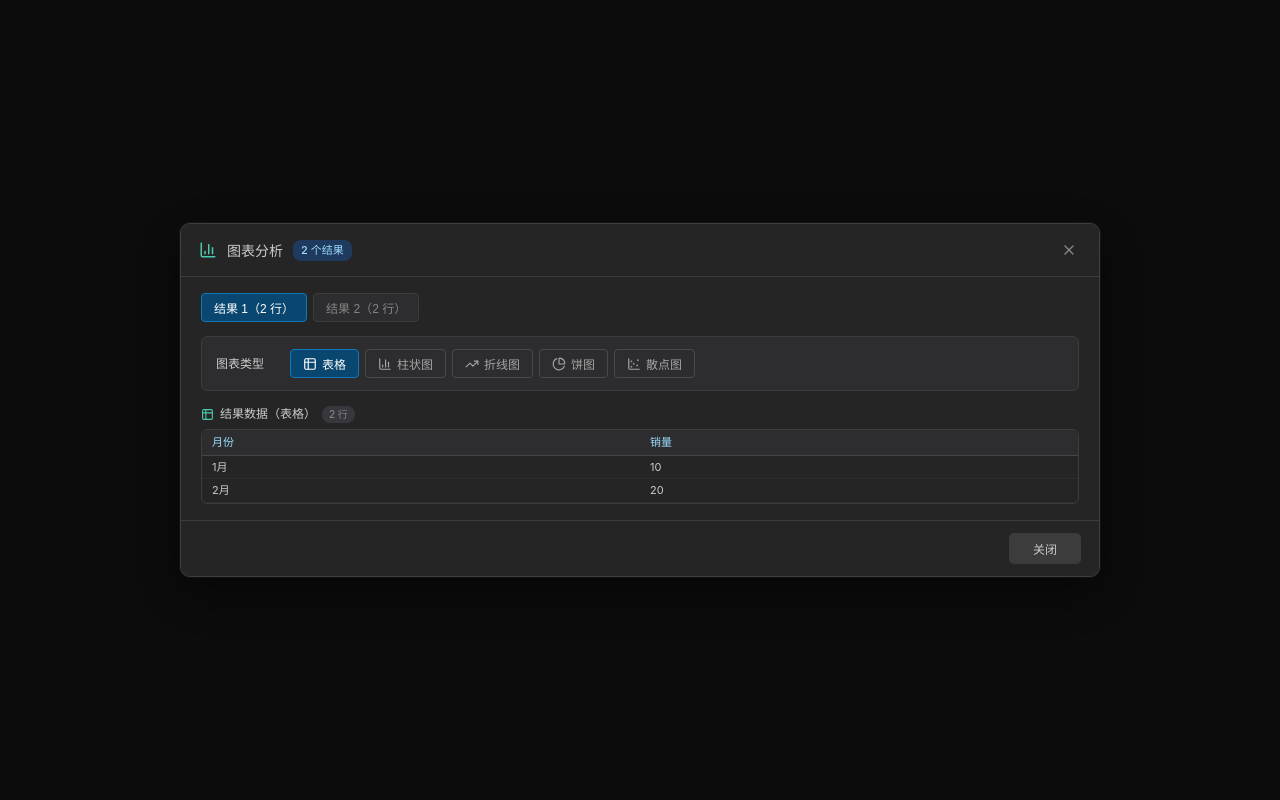
Test: ChartAnalysisModal 结果集切换 › 多结果时点击结果标签可真正切换（回归：曾被打回第一个结果）
Step 1. Click the button "结果 2（2 行）" → (366, 308), box [313,293,419,322]
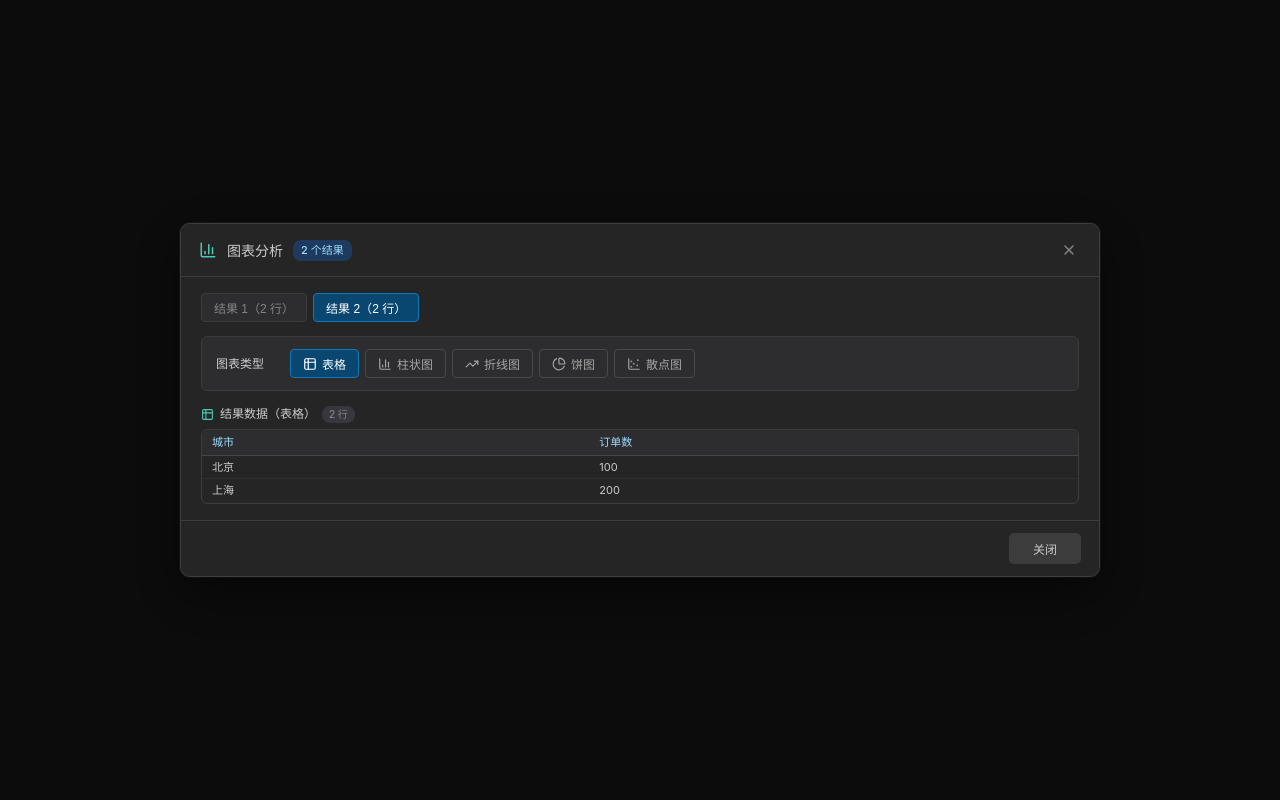
Result: the column heading "城市" is shown at [202,430,589,455]
Result: the column heading "月份" is gone
